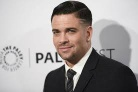male: (46, 1, 101, 67)
